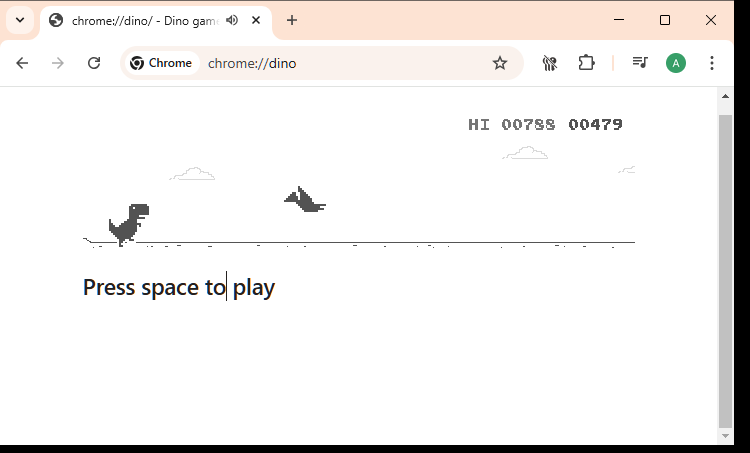bird: (283, 185, 327, 214)
dino: (108, 203, 150, 248)
